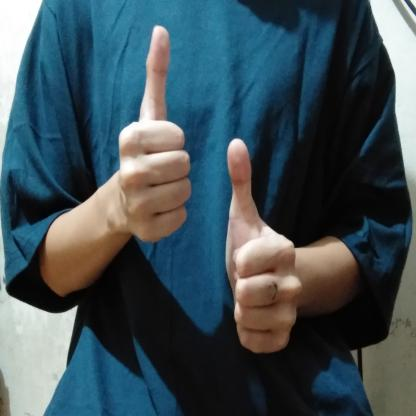which: (112, 20, 304, 365)
